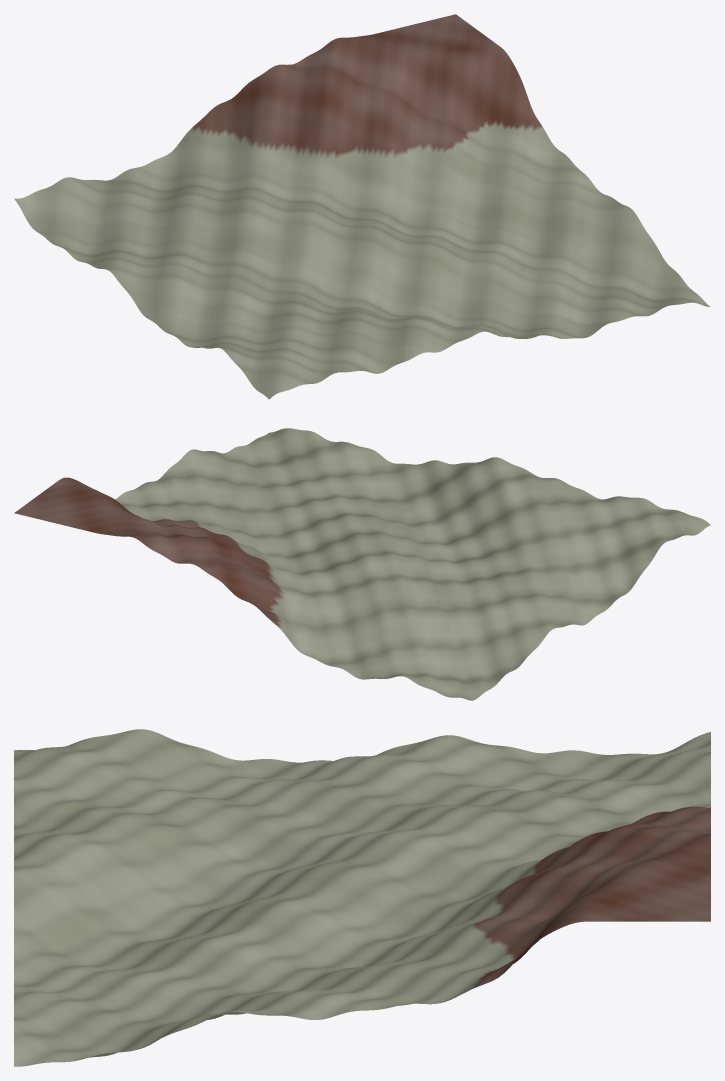
File: terrain_0_0.glb
3 views of the same model, one above another, from view 1: azimuth 30°, elevation 25°; view 2: azimuth 150°, elevation 25°; view 3: azimuth 270°, elevation 25° (orthographic). The views are drawn at different scales.
Visible parts, largest first — view 1: terrain_0_0; view 2: terrain_0_0; view 3: terrain_0_0.
Part boxes in pixels (x1,y1,x2,y2): terrain_0_0: [14, 14, 710, 399]; terrain_0_0: [14, 428, 710, 700]; terrain_0_0: [14, 729, 710, 1066].
Size of the model in its own units: 512 by 127 by 512.
